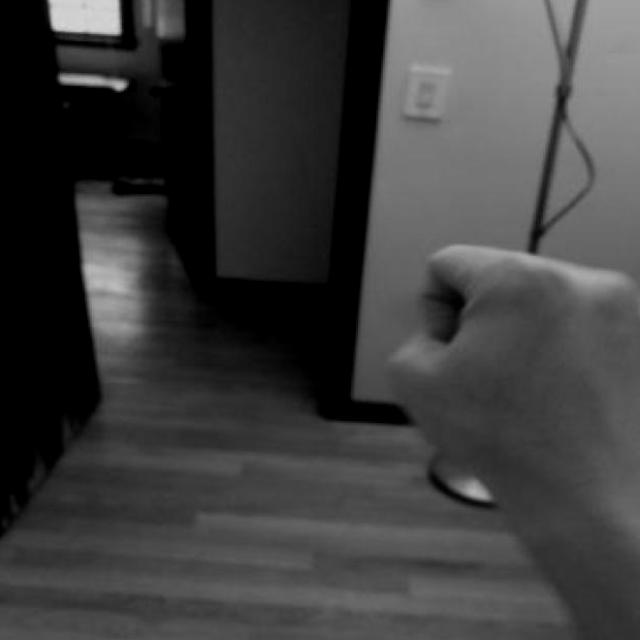J: (375, 239, 640, 555)
